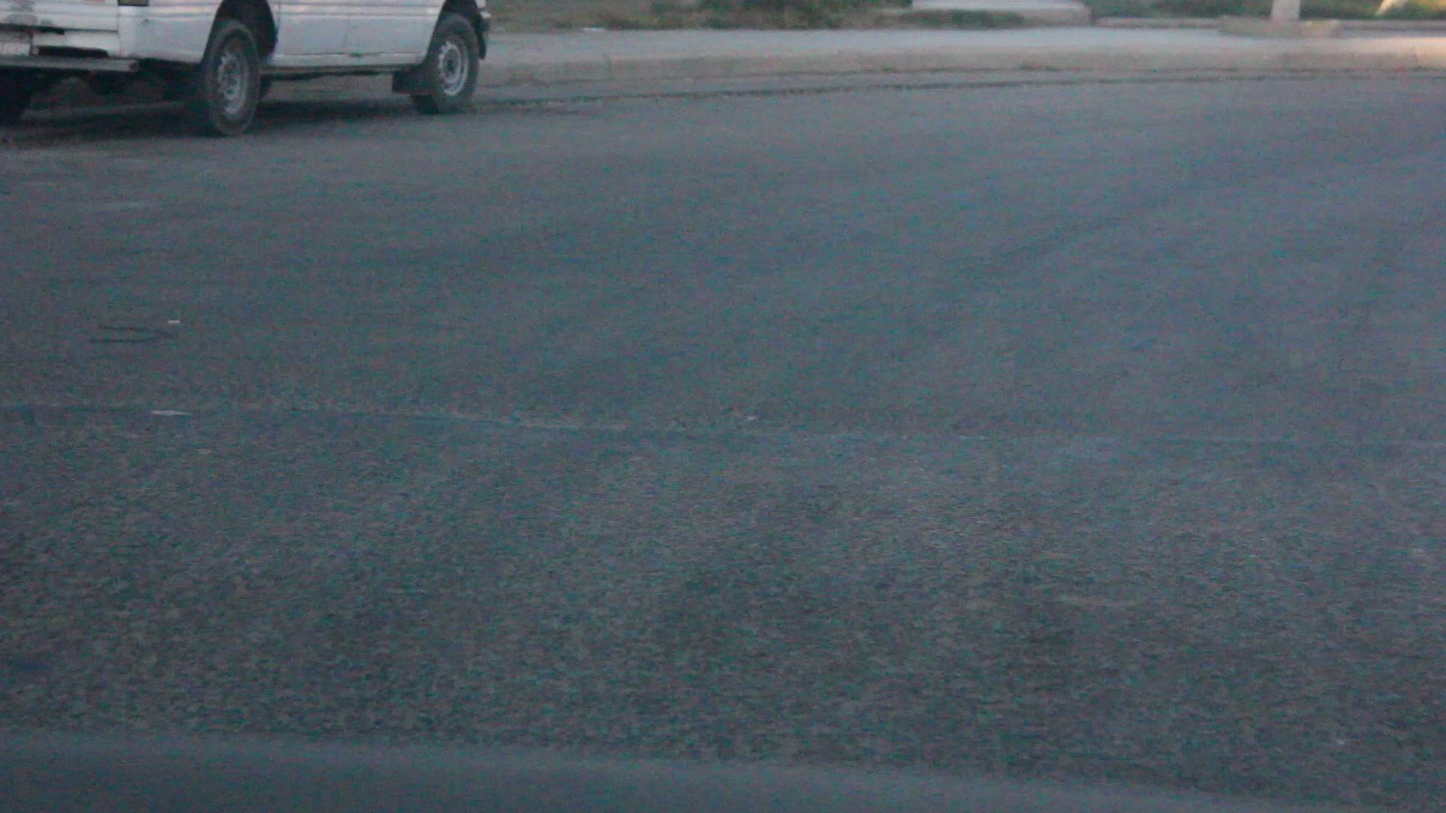Bump: (9, 401, 1446, 787)
